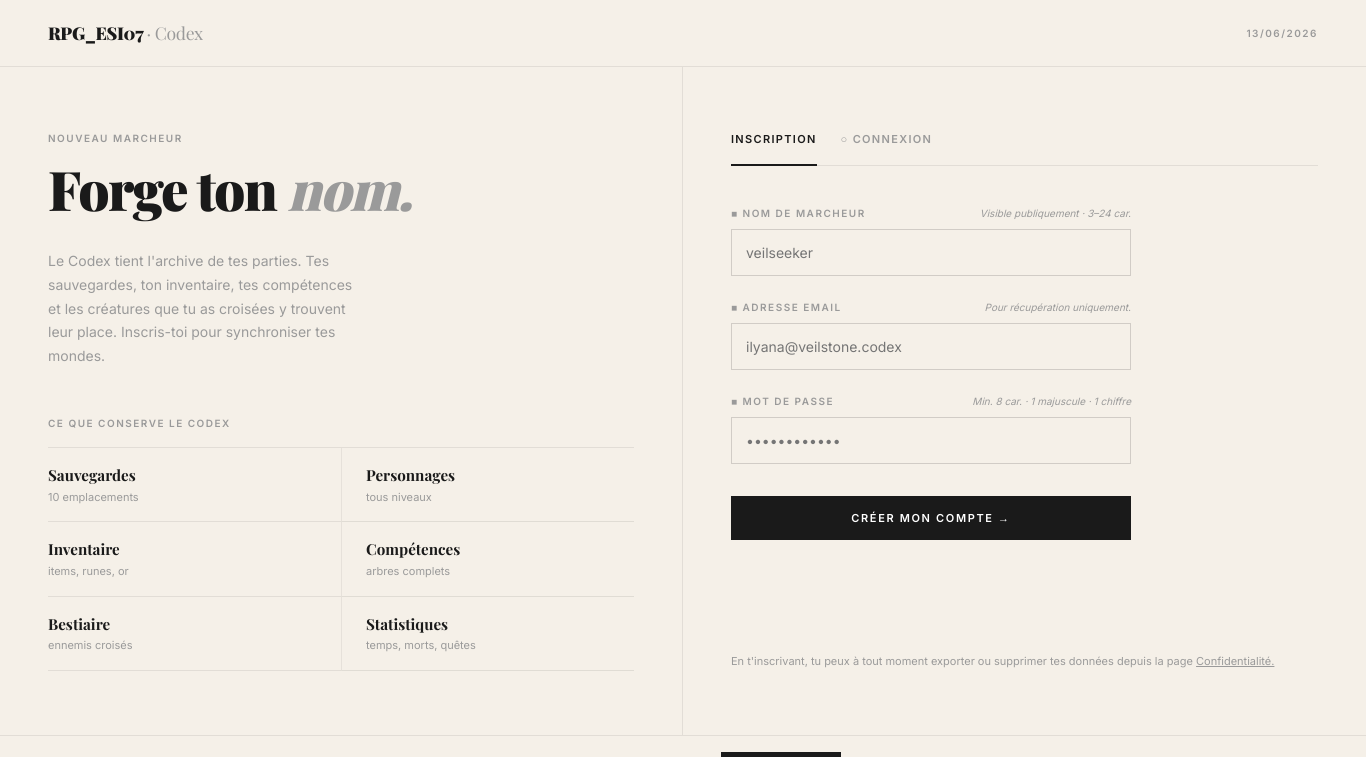
it: RegisterView › affiche une erreur si l'inscription échoue
Click the button "Créer mon compte →" at (931,518), box [731,496,1131,540]
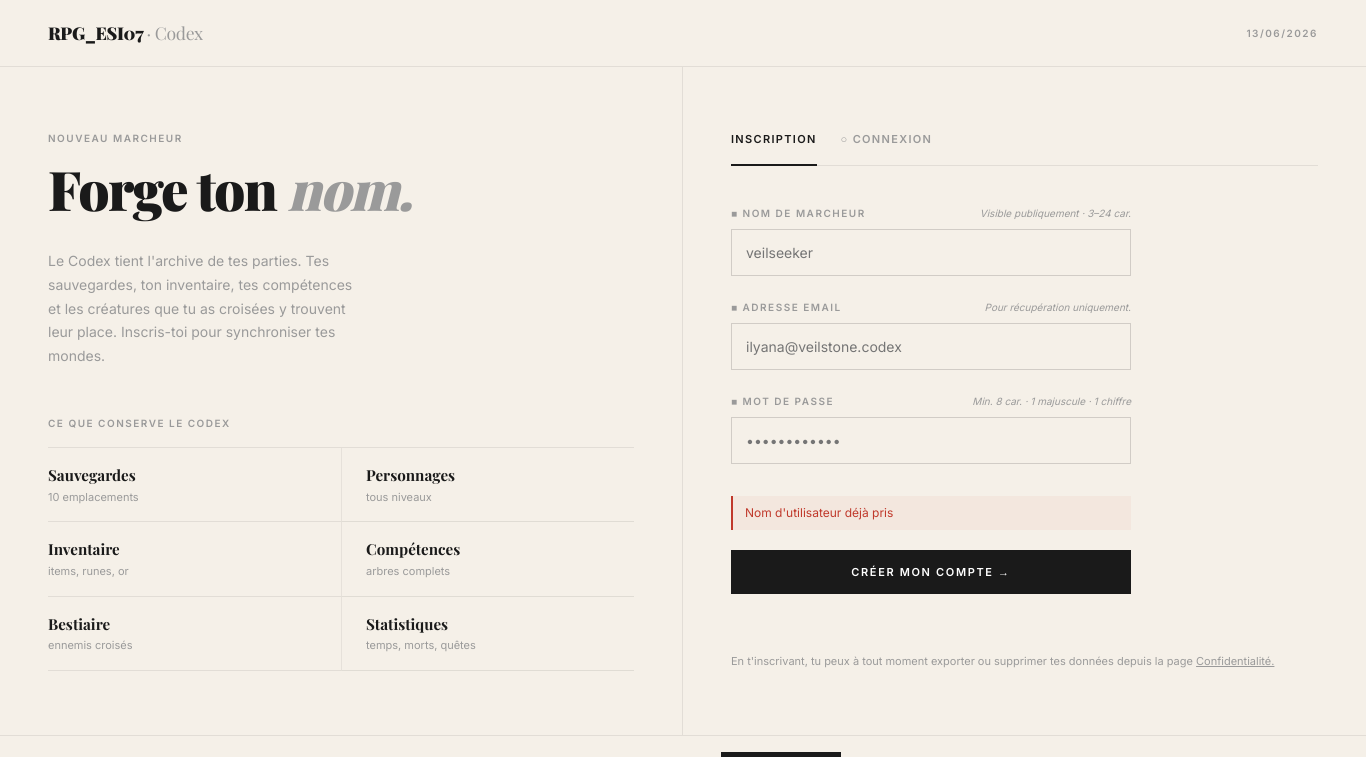
Now the text "déjà pris" is shown, box [745,505,893,520]
